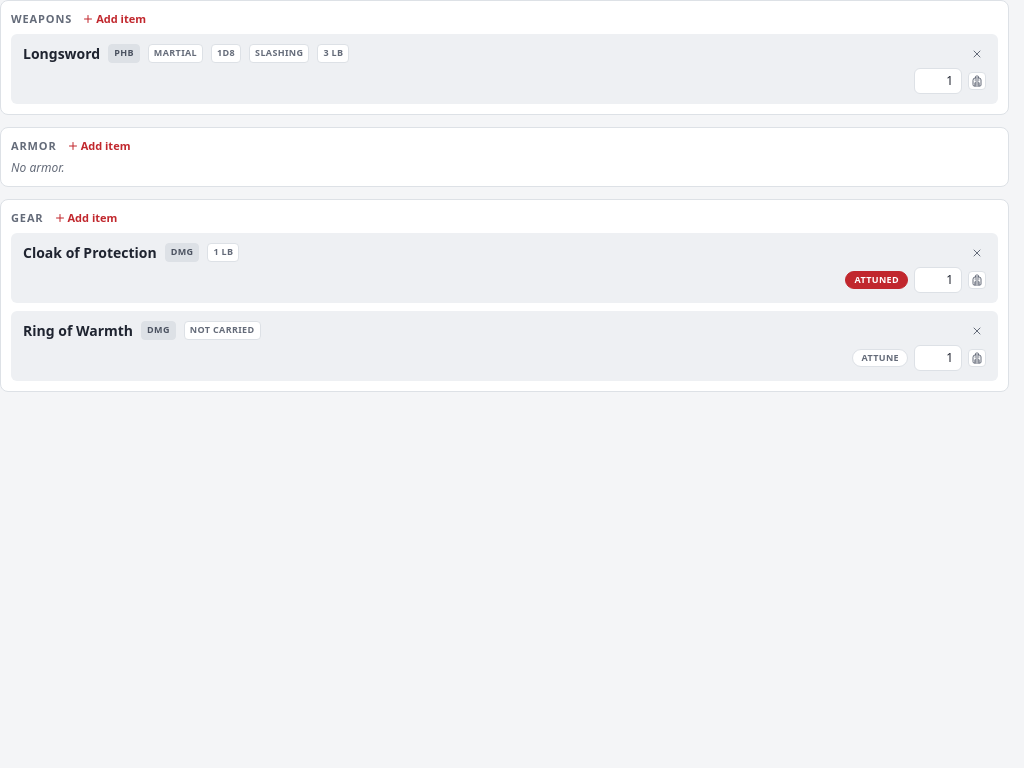
Test: ItemList › adds a picked item to the end of the inventory
Expected: the button "Longsword" is shown, top-left (23, 44), bottom-right (100, 64)
Step 1. Click the button with aria-label "Add item to Gear" → (85, 218), box top-left (50, 206), bottom-right (121, 230)
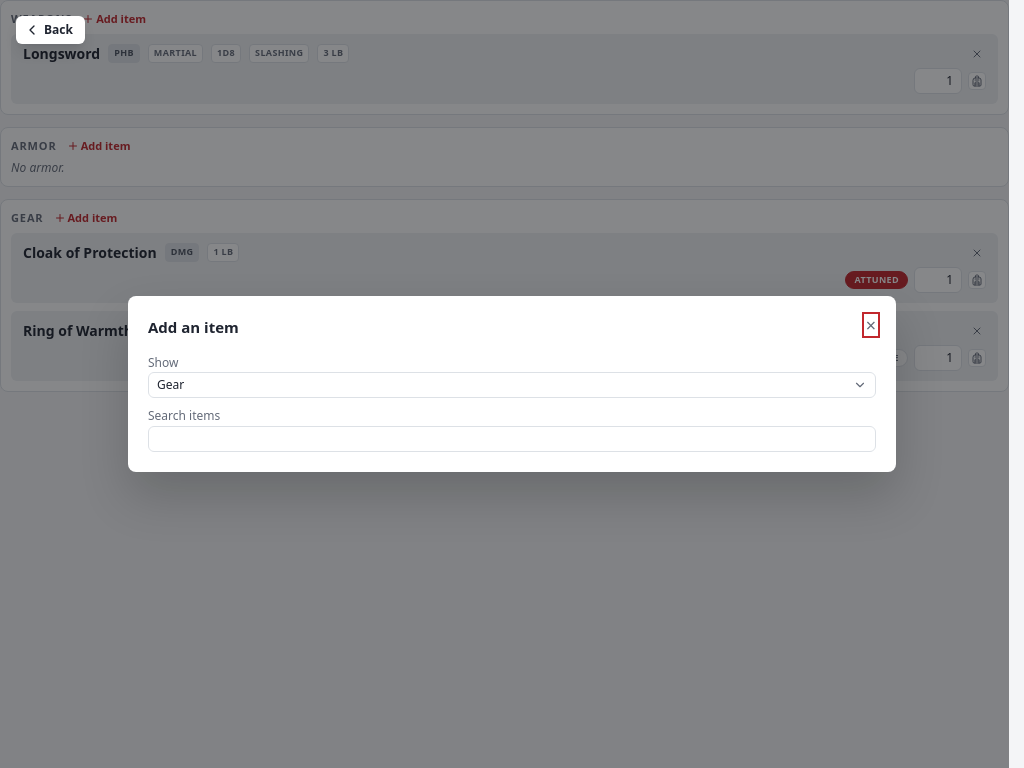
Step 2. Type "rope" into the dropdown labelled "Search items" → (512, 439), box top-left (148, 426), bottom-right (876, 452)
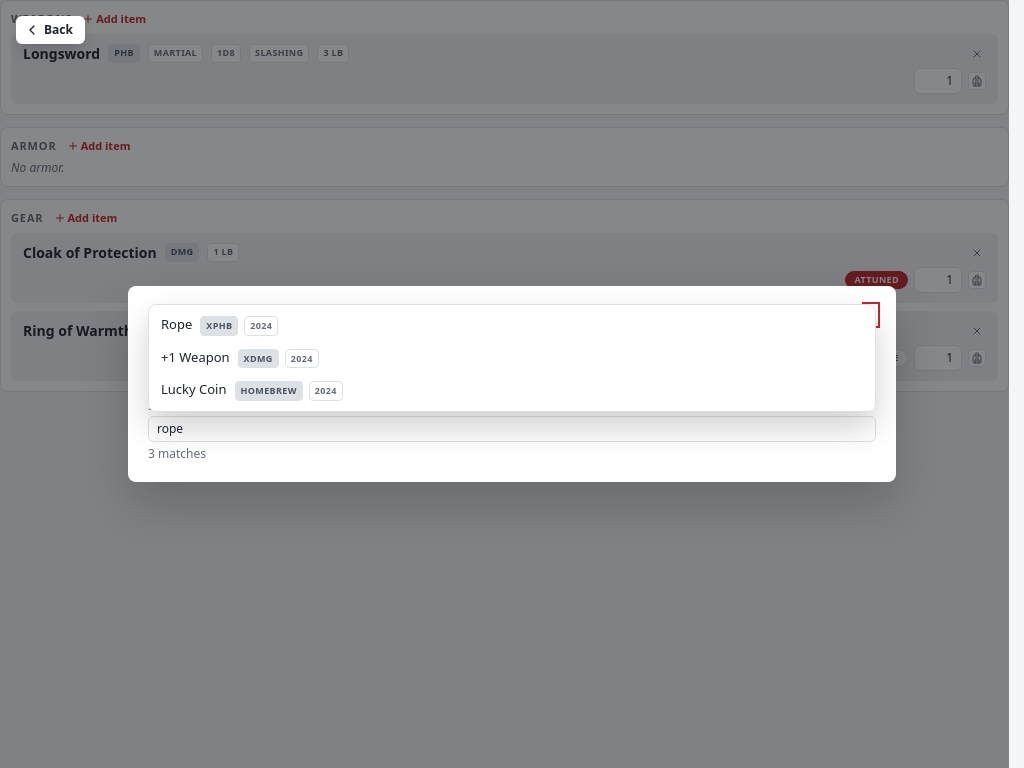
Step 3. Click the option "Rope XPHB 2024" → (220, 326), box top-left (161, 315), bottom-right (278, 336)
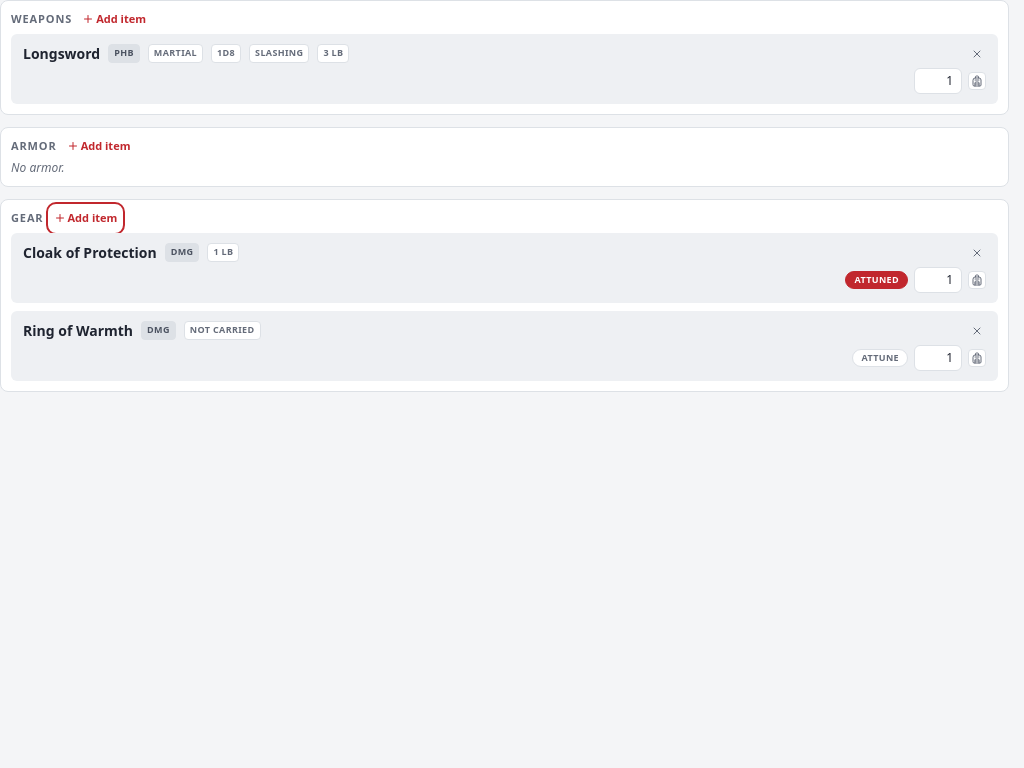
Expected: the dialog is gone
